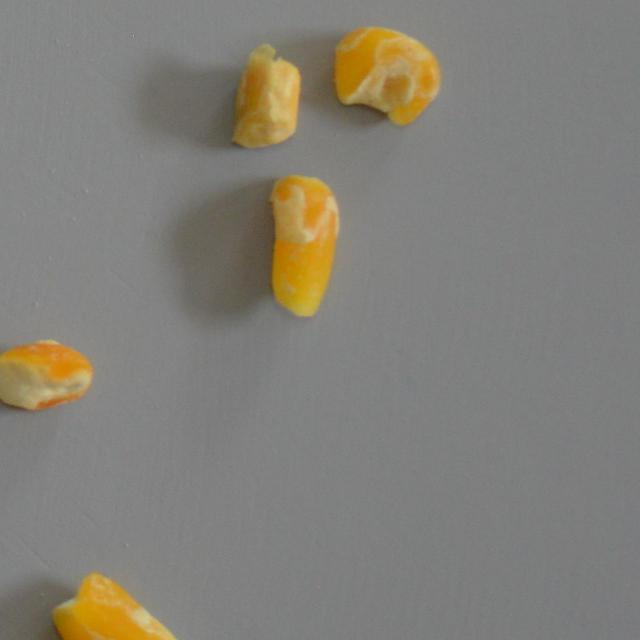dañado: (328, 21, 446, 130), (260, 168, 342, 322), (48, 568, 198, 640), (0, 326, 98, 420), (226, 37, 301, 152)
